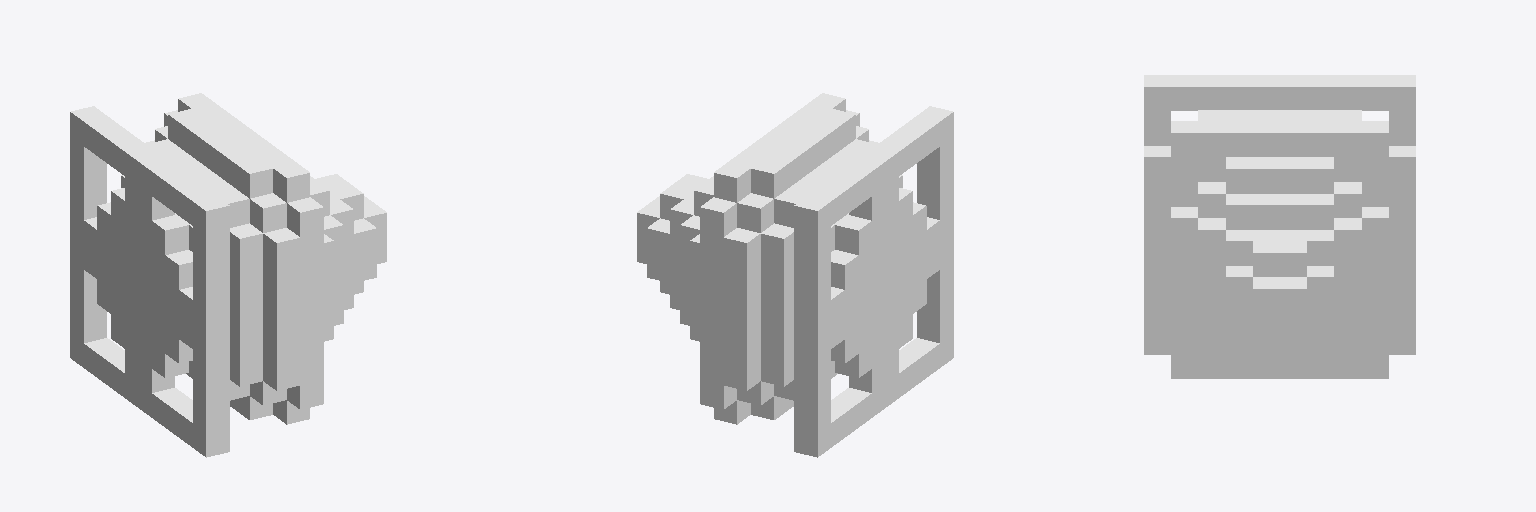
Rendered from Bomb.obj.
The picture shows the model from 3 angles: view 1: azimuth 30°, elevation 25°; view 2: azimuth 150°, elevation 25°; view 3: azimuth 270°, elevation 25°; orthographic projection.
Visible parts, largest first — view 1: Bomb; view 2: Bomb; view 3: Bomb.
Part boxes in pixels (x1,y1,x2,y2): Bomb: (70, 93, 386, 457); Bomb: (637, 93, 953, 457); Bomb: (1144, 75, 1415, 378).
Size of the model in its own units: 10 by 10 by 10.